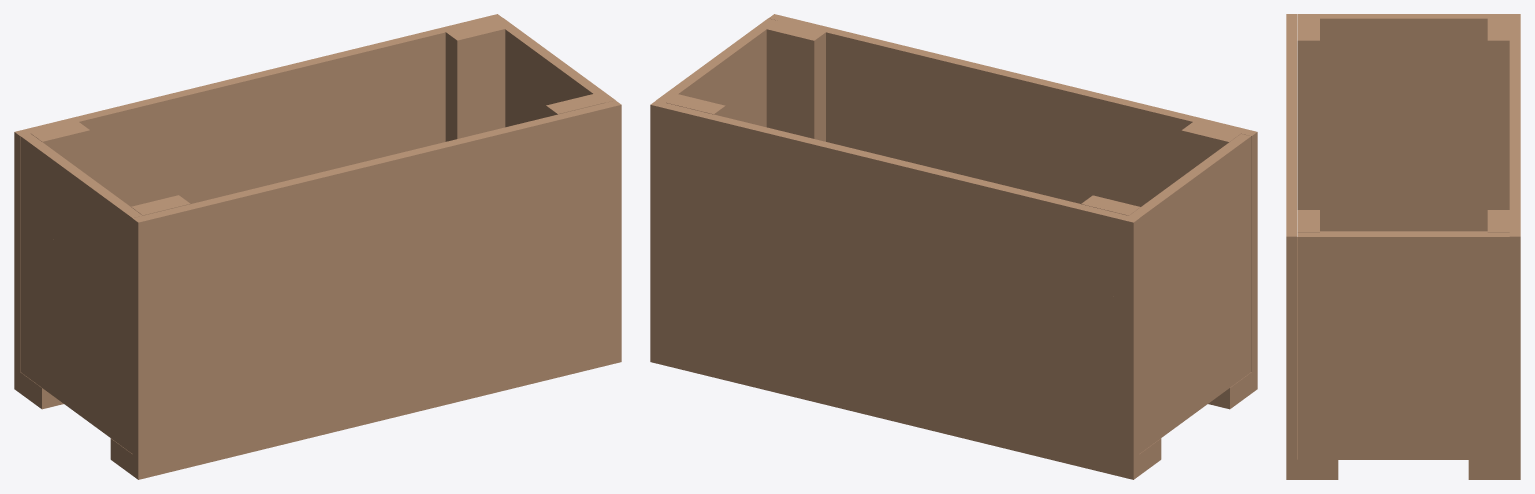
File: oiled.glb
3 views of the same model, side by side, from view 1: azimuth 30°, elevation 25°; view 2: azimuth 150°, elevation 25°; view 3: azimuth 270°, elevation 25° (orthographic). The views are drawn at different scales.
Visible parts, largest first — view 1: long_side.6, long_side.2, long_side.4, long_side.5, skid.2, short_side.5, long_side.3, short_side.3, short_side.1, corner_post.2, short_side.6, corner_post.1 (+2 smaller); view 2: long_side.5, long_side.1, long_side.3, long_side.6, skid.1, short_side.5, long_side.4, short_side.3, short_side.1, corner_post.4, short_side.6, corner_post.3 (+2 smaller); view 3: short_side.6, short_side.4, short_side.2, short_side.5, short_side.3, short_side.1, corner_post.1, corner_post.3, long_side.5, long_side.6, skid.2, skid.1 (+7 smaller).
Part boxes in pixels (left/top/right/bottom): long_side.6: left=132, top=100, right=621, bottom=301; long_side.2: left=132, top=262, right=621, bottom=458; long_side.4: left=132, top=183, right=621, bottom=379; long_side.5: left=14, top=14, right=502, bottom=214; skid.2: left=110, top=341, right=621, bottom=479; short_side.5: left=20, top=133, right=142, bottom=296; long_side.3: left=14, top=111, right=445, bottom=293; short_side.3: left=20, top=215, right=132, bottom=375; short_side.1: left=20, top=294, right=132, bottom=453; corner_post.2: left=445, top=20, right=505, bottom=141; short_side.6: left=494, top=18, right=615, bottom=122; corner_post.1: left=31, top=121, right=90, bottom=176; long_side.5: left=650, top=100, right=1139, bottom=301; long_side.1: left=650, top=262, right=1139, bottom=458; long_side.3: left=650, top=183, right=1139, bottom=379; long_side.6: left=768, top=14, right=1257, bottom=214; skid.1: left=650, top=341, right=1161, bottom=479; short_side.5: left=1129, top=134, right=1251, bottom=296; long_side.4: left=826, top=111, right=1257, bottom=293; short_side.3: left=1139, top=215, right=1251, bottom=375; short_side.1: left=1139, top=294, right=1251, bottom=453; corner_post.4: left=766, top=20, right=825, bottom=141; short_side.6: left=656, top=18, right=777, bottom=122; corner_post.3: left=1181, top=122, right=1240, bottom=176; short_side.6: left=1297, top=232, right=1509, bottom=311; short_side.4: left=1297, top=311, right=1509, bottom=385; short_side.2: left=1297, top=385, right=1509, bottom=459; short_side.5: left=1297, top=14, right=1509, bottom=92; short_side.3: left=1320, top=93, right=1487, bottom=167; short_side.1: left=1320, top=167, right=1487, bottom=231; corner_post.1: left=1487, top=18, right=1509, bottom=209; corner_post.3: left=1297, top=18, right=1319, bottom=209; long_side.5: left=1509, top=14, right=1520, bottom=310; long_side.6: left=1286, top=14, right=1297, bottom=310; skid.2: left=1286, top=237, right=1338, bottom=479; skid.1: left=1468, top=459, right=1520, bottom=479.
Bounding box in the file's own units: 0.9005 × 0.4585 × 0.4.
